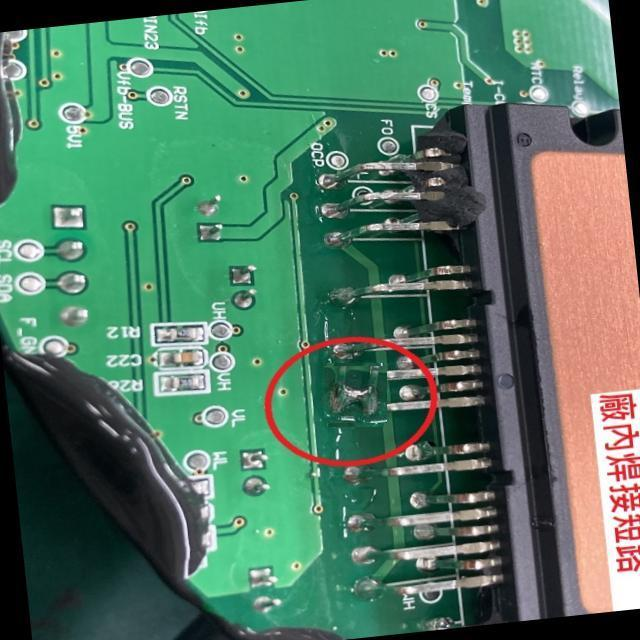damged: (325, 365, 386, 425)
